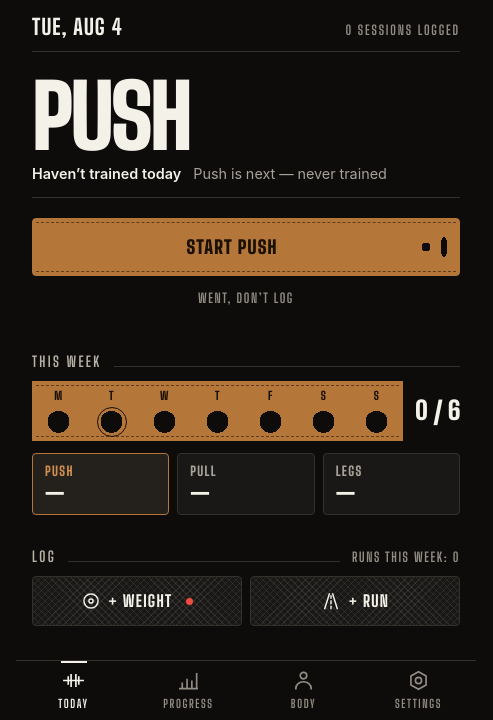
Test case: logging a workout › keeps the exercise open after its last set, instead of jumping away
Click the button "Start Push" at (246, 247), box [32, 218, 460, 276]
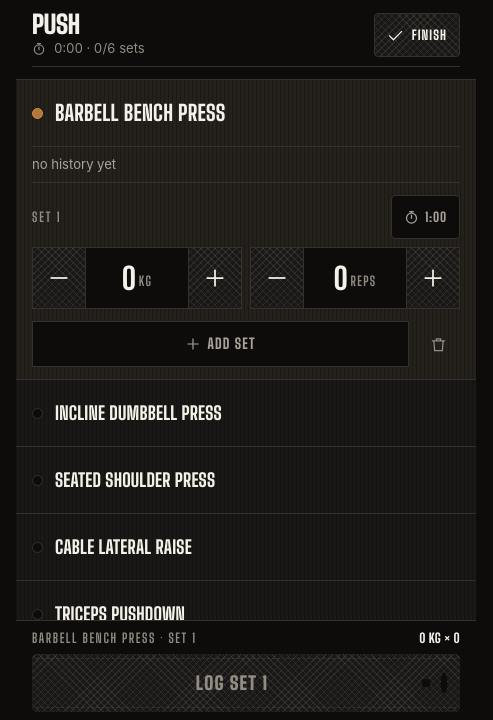
Expected: the text "Barbell Bench Press" is shown, [55, 100, 226, 126]
Click the button with aria-label "Barbell Bench Press set 1 reps" at (355, 278), box [304, 247, 406, 309]
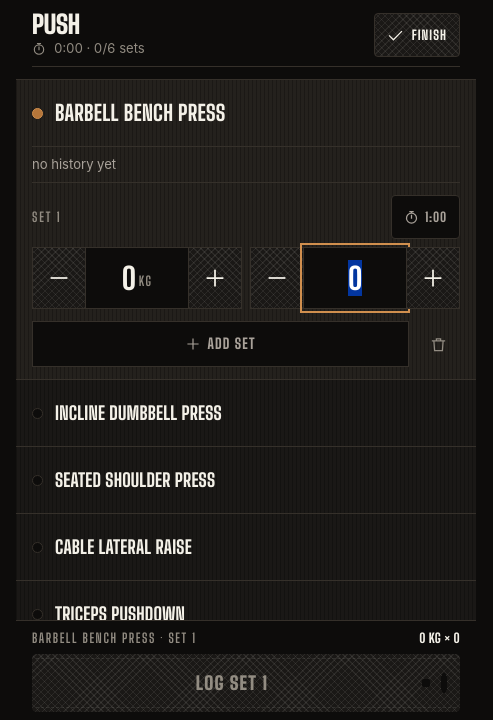
Type "8" into the field named "Barbell Bench Press set 1 reps" at (355, 278), box [304, 247, 406, 309]
Then press Enter
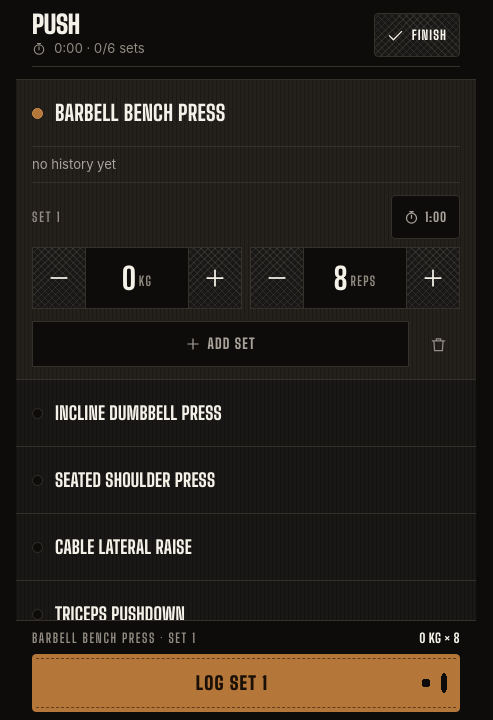
Click the button with aria-label "mark Barbell Bench Press set 1 done" at (246, 683), box [32, 654, 460, 712]
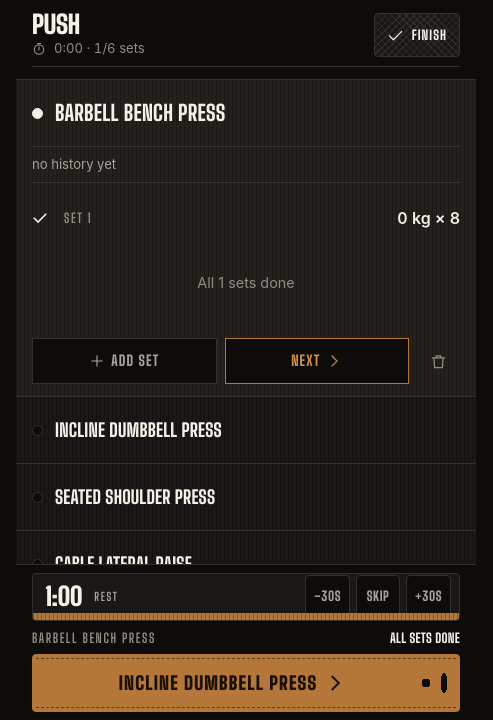
Expected: the button "Barbell Bench Press" is shown, [16, 80, 476, 146]
Expected: the button "Add set" is shown, [32, 338, 216, 384]
Expected: the text "All 1 sets done" is shown, [197, 274, 295, 291]
